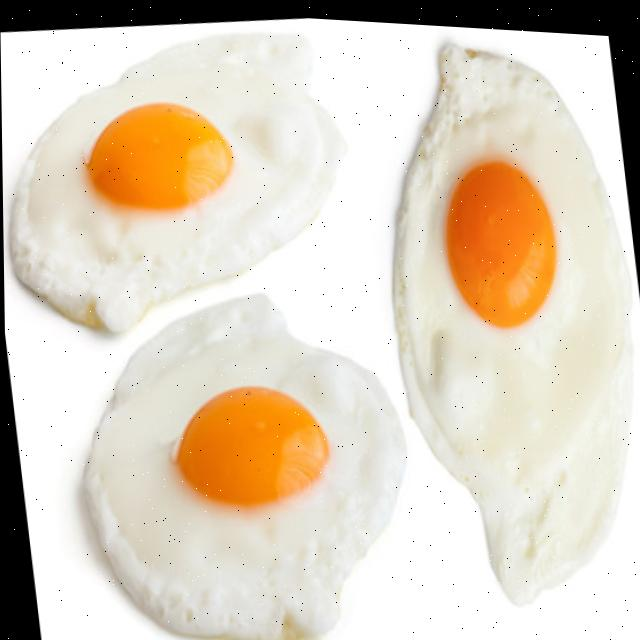Egg: (392, 40, 630, 597), (82, 292, 404, 640), (9, 29, 344, 329)
